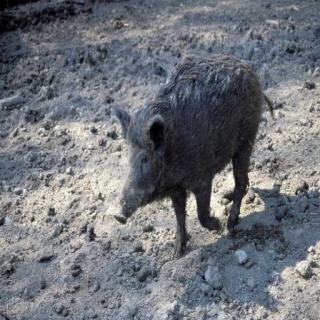Pig: (102, 42, 263, 260)
